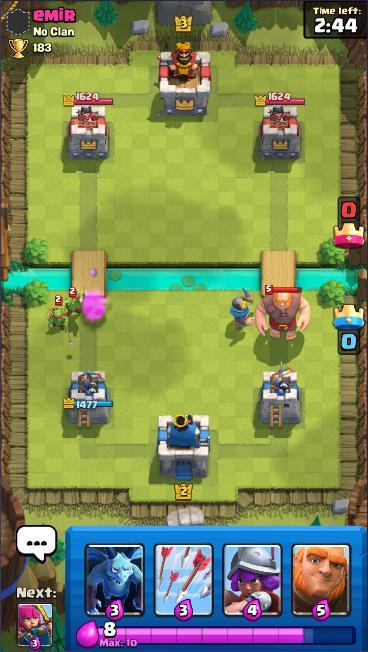EFirespirit: (227, 286, 259, 333)
ESkelBarrel: (254, 283, 312, 342)
OEVWizard: (45, 294, 71, 335), (61, 286, 88, 318)
